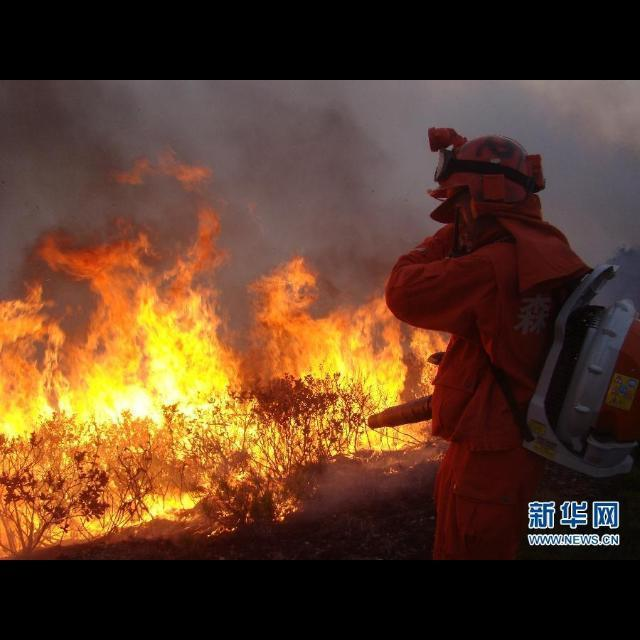Fire: (1, 150, 453, 558)
Smoke: (1, 80, 640, 300)
